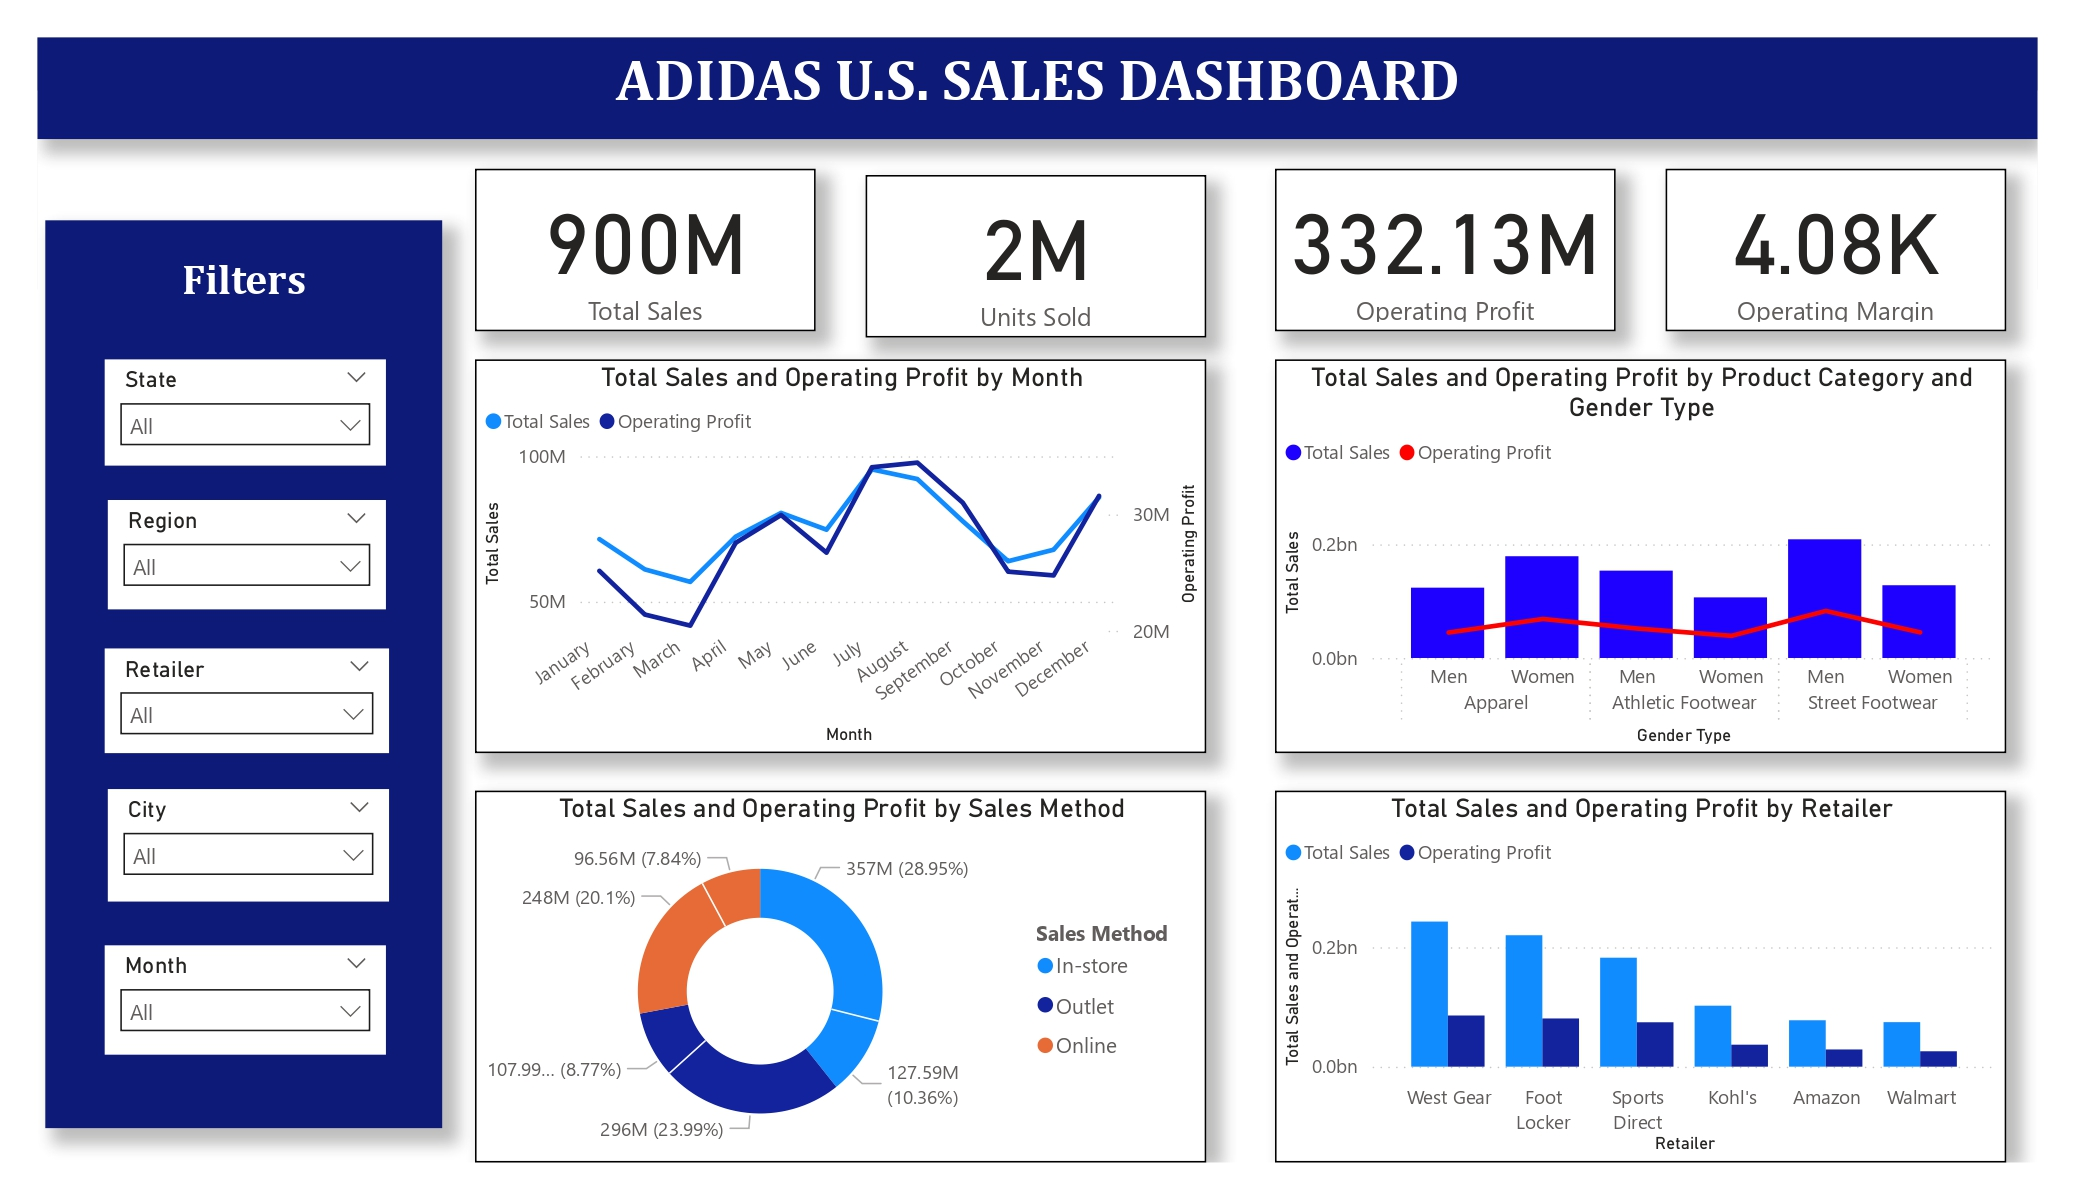

What the dashboard file says about the page in this screenshot:
{"tool":"powerbi","page":{"name":"Page 1","canvas":[1280,720],"ordinal":0},"visuals":[{"type":"textbox","box":[0,0,1281.1,64.9],"z":0},{"type":"textbox","box":[4.9,117.1,253.7,580.5],"z":1000},{"type":"slicer","fields":{"Values":["adidas.State"]},"box":[43.4,205.7,179.2,67.9],"z":2000},{"type":"slicer","fields":{"Values":["adidas.Region"]},"box":[45.3,296.2,177.4,69.8],"z":3000},{"type":"slicer","fields":{"Values":["adidas.Retailer"]},"box":[43.4,390.6,181.1,67.9],"z":4000},{"type":"slicer","fields":{"Values":["adidas.City"]},"box":[45.3,481.1,179.2,71.7],"z":5000},{"type":"slicer","fields":{"Values":["adidas.Month"]},"box":[43.4,581.1,179.2,69.8],"z":6000},{"type":"card","fields":{"Values":["Sum(adidas.Total Sales)"]},"box":[280,84,218,104],"z":7000},{"type":"card","fields":{"Values":["Sum(adidas.Operating Margin)"]},"box":[1042,84,218,104],"z":8000},{"type":"card","fields":{"Values":["Sum(adidas.Units Sold)"]},"box":[530,88,218,104],"z":9000},{"type":"card","fields":{"Values":["Sum(adidas.Operating Profit)"]},"box":[792,84,218,104],"z":10000},{"type":"lineChart","fields":{"Category":["adidas.Invoice Date.Variation.Date Hierarchy.Year","adidas.Invoice Date.Variation.Date Hierarchy.Month"],"Y":["Sum(adidas.Total Sales)"],"Y2":["Sum(adidas.Operating Profit)"]},"box":[280,206,468,252],"z":11000},{"type":"lineStackedColumnComboChart","title":"Total Sales and Operating Profit by Product Category and Gender Type","fields":{"Category":["adidas.Product Category","adidas.Gender Type"],"Y":["Sum(adidas.Total Sales)"],"Y2":["Sum(adidas.Operating Profit)"]},"box":[792,206,468,252],"z":12000},{"type":"donutChart","title":"Total Sales and Operating Profit by Sales Method","fields":{"Category":["adidas.Sales Method"],"Y":["Sum(adidas.Total Sales)","Sum(adidas.Operating Profit)"]},"box":[280,482,468,238],"z":13000},{"type":"clusteredColumnChart","fields":{"Category":["adidas.Retailer"],"Y":["Sum(adidas.Total Sales)","Sum(adidas.Operating Profit)"]},"box":[792,482,468,238],"z":14000}]}

Visuals, with their boxes in screenshot pixels (x1, y1, x2, y2):
textbox: 38, 38, 2038, 139
textbox: 45, 220, 442, 1128
slicer - adidas.State: 105, 359, 385, 465
slicer - adidas.Region: 108, 500, 385, 609
slicer - adidas.Retailer: 105, 648, 388, 754
slicer - adidas.City: 108, 789, 388, 901
slicer - adidas.Month: 105, 945, 385, 1055
card - Sum(adidas.Total Sales): 475, 169, 816, 331
card - Sum(adidas.Operating Margin): 1666, 169, 2006, 331
card - Sum(adidas.Units Sold): 866, 175, 1206, 338
card - Sum(adidas.Operating Profit): 1275, 169, 1616, 331
lineChart - adidas.Invoice Date.Variation.Date Hierarchy.Year x adidas.Invoice Date.Variation.Date Hierarchy.Month: 475, 359, 1206, 753
"Total Sales and Operating Profit by Product Category and Gender Type" lineStackedColumnComboChart: 1275, 359, 2006, 753
"Total Sales and Operating Profit by Sales Method" donutChart: 475, 791, 1206, 1162
clusteredColumnChart - adidas.Retailer x Sum(adidas.Total Sales): 1275, 791, 2006, 1162
